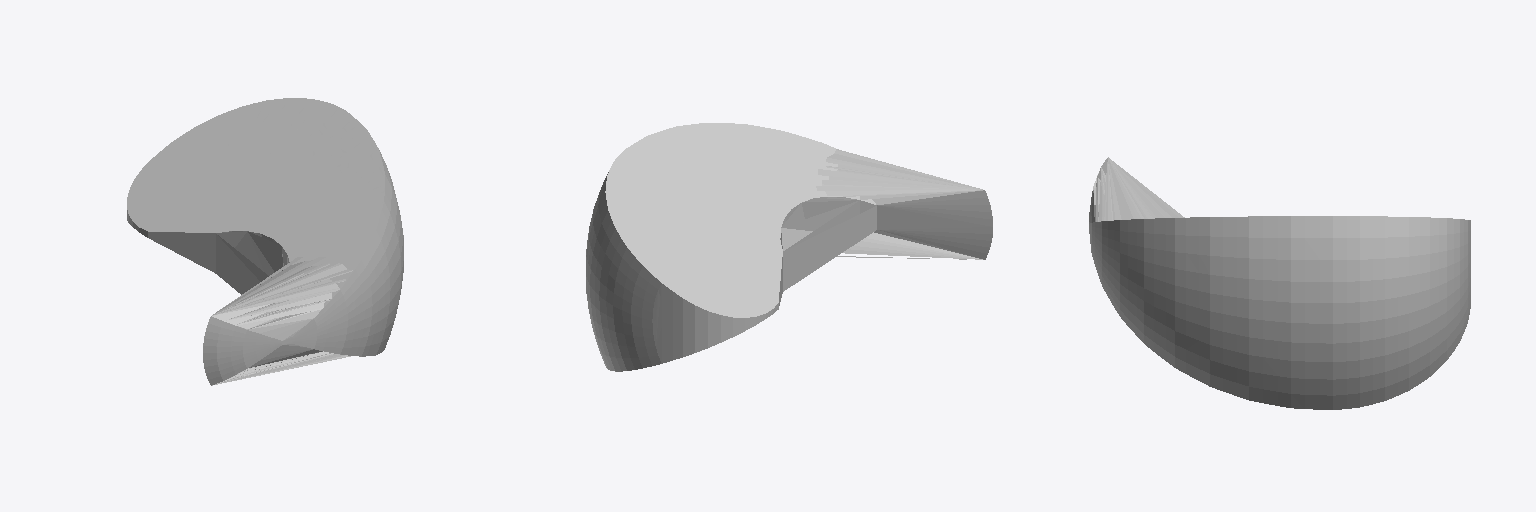
Rendered from middle_workspace_concave_hull.obj.
The picture shows the model from 3 angles: view 1: azimuth 30°, elevation 25°; view 2: azimuth 150°, elevation 25°; view 3: azimuth 270°, elevation 25°; orthographic projection.
Size of the model in its own units: 0.185 by 0.1232 by 0.2202.